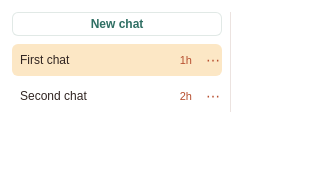
Test: ChatHistory › closes the options menu on Escape
Click the button named "Options for First chat" at {"x": 211, "y": 60}, box [200,49,222,71]
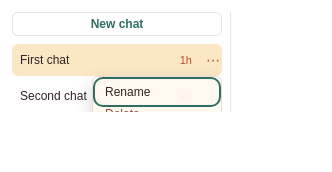
Expected: the menu is shown, [92,76,222,112]
Press Escape
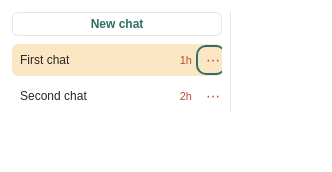
Expected: the menu is gone
